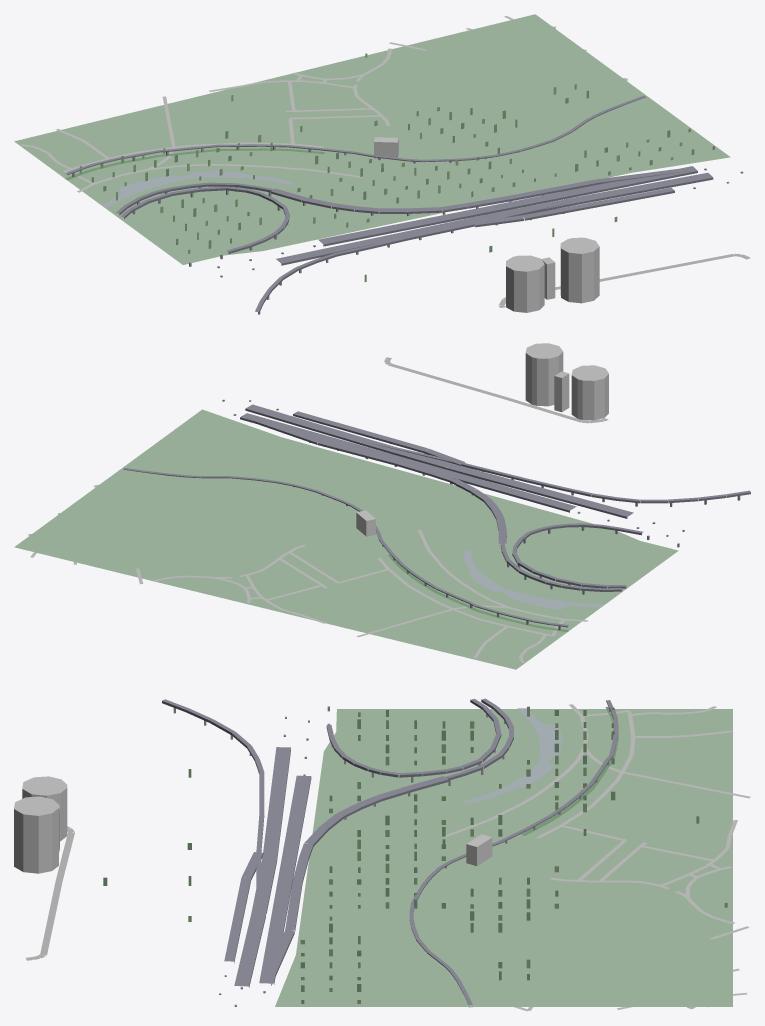
3 views of the same model, one above another, from view 1: azimuth 30°, elevation 25°; view 2: azimuth 150°, elevation 25°; view 3: azimuth 270°, elevation 25° (orthographic). The views are drawn at different scales.
Size of the model in its own units: 510 by 46.04 by 522.
